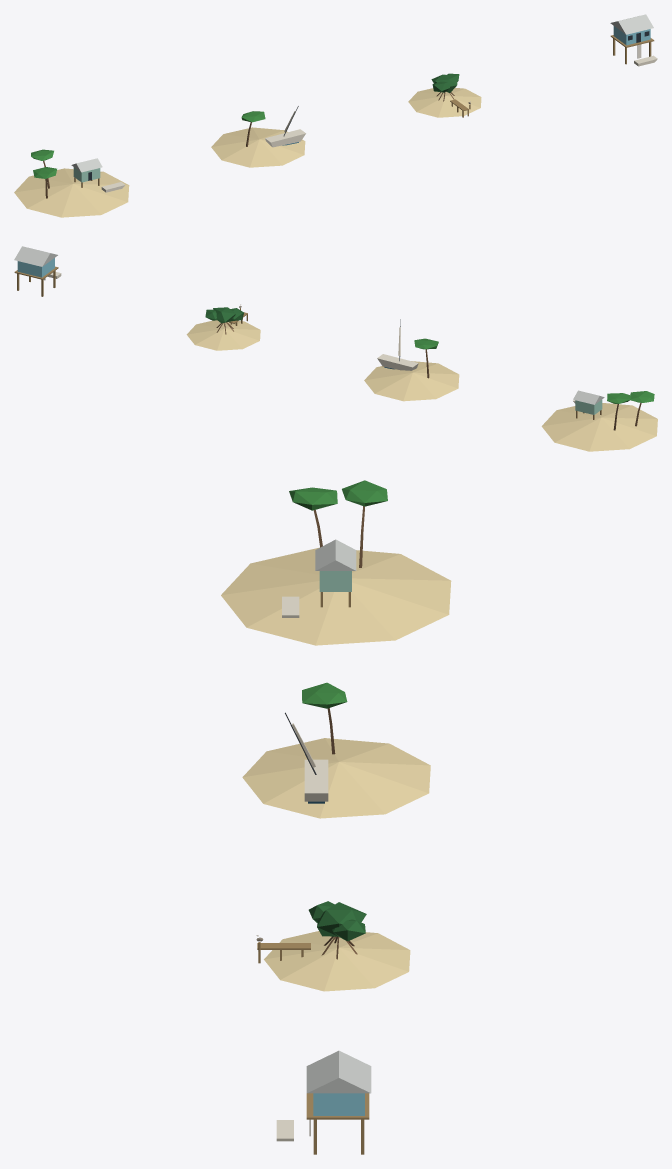
The model's file is keys-islets.glb.
3 views of the same model, one above another, from view 1: azimuth 30°, elevation 25°; view 2: azimuth 150°, elevation 25°; view 3: azimuth 270°, elevation 25° (orthographic). The views are drawn at different scales.
Parts seen in each view (by area): view 1: keys_islet_shack_body, keys_islet_wreck_body, keys_islet_mangrove_body, keys_islet_stilts_body; view 2: keys_islet_shack_body, keys_islet_wreck_body, keys_islet_mangrove_body, keys_islet_stilts_body; view 3: keys_islet_shack_body, keys_islet_wreck_body, keys_islet_mangrove_body, keys_islet_stilts_body.
Boxes of the visible parts, x1,y1,x2,y2 form: keys_islet_shack_body: (14, 149, 129, 217); keys_islet_wreck_body: (211, 106, 305, 167); keys_islet_mangrove_body: (408, 73, 481, 117); keys_islet_stilts_body: (610, 14, 657, 66); keys_islet_shack_body: (541, 390, 657, 451); keys_islet_wreck_body: (364, 319, 459, 401); keys_islet_mangrove_body: (186, 304, 260, 350); keys_islet_stilts_body: (14, 246, 61, 296); keys_islet_shack_body: (221, 480, 451, 645); keys_islet_wreck_body: (242, 682, 430, 818); keys_islet_mangrove_body: (256, 901, 410, 991); keys_islet_stilts_body: (276, 1050, 371, 1154).
Bounding box in the file's own units: 134 × 9.32 × 21.43.
